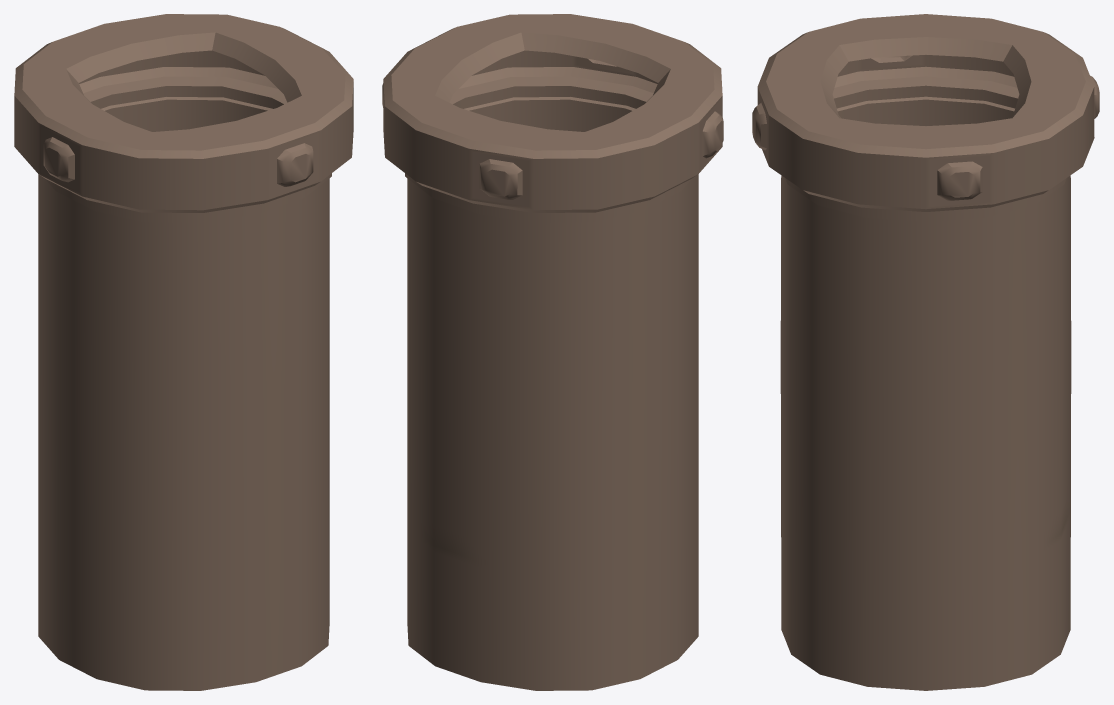
Rendered from pipe.fbx.
3 renders of one model, left to right at view 1: azimuth 30°, elevation 25°; view 2: azimuth 150°, elevation 25°; view 3: azimuth 270°, elevation 25°, orthographic.
Parts seen in each view (by area): view 1: big_pipe; view 2: big_pipe; view 3: big_pipe.
Part boxes in pixels (left/top/right/bottom): big_pipe: left=14, top=14, right=353, bottom=690; big_pipe: left=382, top=14, right=723, bottom=690; big_pipe: left=752, top=14, right=1099, bottom=690.
Bounding box in the file's own units: 23.04 × 40.09 × 23.04.
